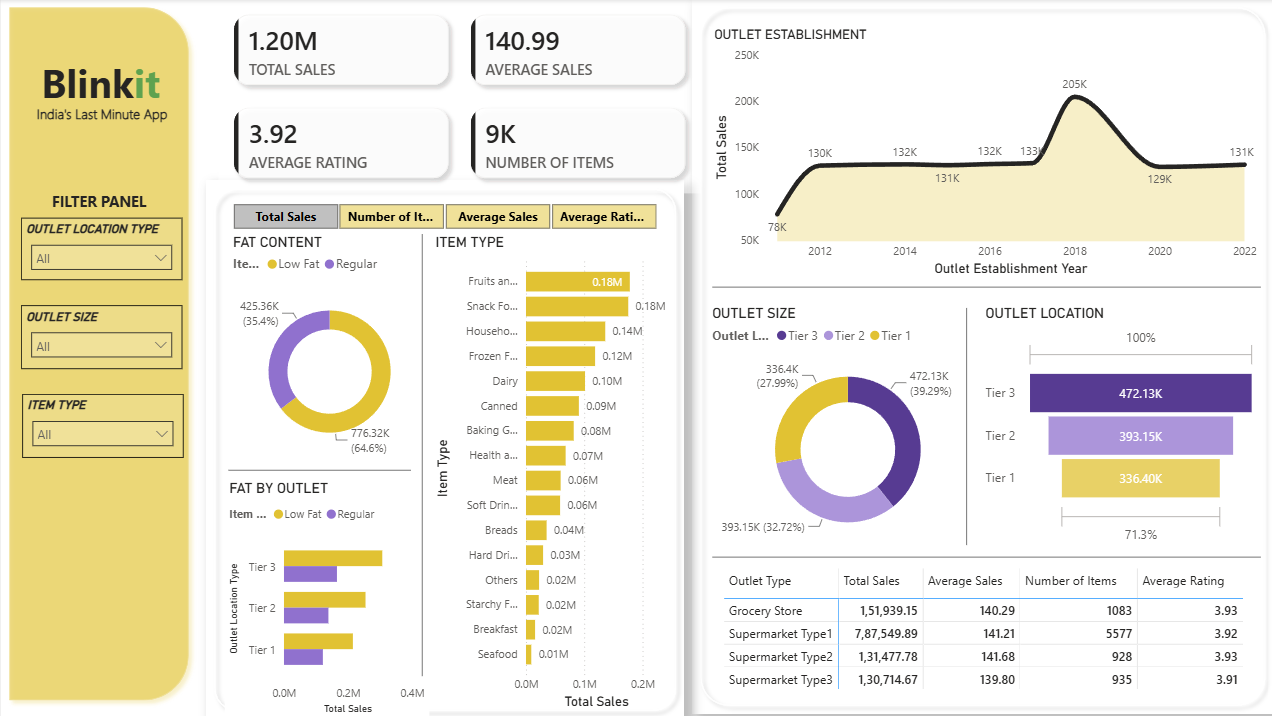

The page's visual inventory and layout, read from the dashboard file:
{"tool":"powerbi","page":{"name":"Page 1","canvas":[1400,800],"ordinal":0},"visuals":[{"type":"shape","box":[223,197.3,521.6,587.8],"z":0},{"type":"clusteredBarChart","title":"FAT BY OUTLET","fields":{"Y":["BlinkIT Grocery Data.Total Sales"],"Category":["BlinkIT Grocery Data.Outlet Location Type"],"Series":["BlinkIT Grocery Data.Item Fat Content"]},"box":[244,524.9,223.6,260.4],"z":1000},{"type":"shape","box":[0,0,213.7,774],"z":2000},{"type":"donutChart","title":"FAT CONTENT","fields":{"Y":["BlinkIT Grocery Data.Total Sales"],"Category":["BlinkIT Grocery Data.Item Fat Content"]},"box":[248.1,256.3,220.9,257.7],"z":3000},{"type":"textbox","box":[27.4,57.5,163,68.5],"z":4000},{"type":"textbox","box":[19.2,111,182.2,32.9],"z":5000},{"type":"cardVisual","fields":{"Data":["BlinkIT Grocery Data.Total Sales","BlinkIT Grocery Data.Average Sales","BlinkIT Grocery Data.Average Rating","BlinkIT Grocery Data.Number of Items"]},"box":[237,0,527.4,212.3],"z":6000},{"type":"clusteredBarChart","title":"ITEM TYPE","fields":{"Y":["BlinkIT Grocery Data.Total Sales"],"Category":["BlinkIT Grocery Data.Item Type"]},"box":[469,256.3,276.8,523.5],"z":7000},{"type":"shape","box":[753.9,0,634,779.8],"z":8000},{"type":"lineChart","title":"OUTLET ESTABLISHMENT","fields":{"Category":["BlinkIT Grocery Data.Outlet Establishment Year"],"Y":["BlinkIT Grocery Data.Total Sales"]},"box":[772.7,30.3,601.5,277.3],"z":9000},{"type":"donutChart","title":"OUTLET SIZE","fields":{"Y":["BlinkIT Grocery Data.Total Sales"],"Category":["BlinkIT Grocery Data.Outlet Location Type"]},"box":[775.7,334,295.8,267.2],"z":10000},{"type":"funnel","title":"OUTLET LOCATION","fields":{"Y":["Sum(BlinkIT Grocery Data.Sales)"],"Category":["BlinkIT Grocery Data.Outlet Location Type"]},"box":[1068.9,334,305.4,267.2],"z":11000},{"type":"pivotTable","fields":{"Rows":["BlinkIT Grocery Data.Outlet Type"],"Values":["BlinkIT Grocery Data.Total Sales","BlinkIT Grocery Data.Average Sales","BlinkIT Grocery Data.Number of Items","BlinkIT Grocery Data.Average Rating"]},"box":[783.9,616.2,576.7,144.5],"z":12000},{"type":"slicer","fields":{"Values":["Matrics.Matrics"]},"box":[227.4,216.4,511,39.7],"z":13000},{"type":"slicer","title":"OUTLET LOCATION TYPE","fields":{"Values":["BlinkIT Grocery Data.Outlet Location Type"]},"box":[21.8,238.6,175.9,68.2],"z":15000},{"type":"slicer","title":"OUTLET SIZE","fields":{"Values":["BlinkIT Grocery Data.Outlet Size"]},"box":[21.8,334,175.9,69.5],"z":15001},{"type":"slicer","title":"ITEM TYPE","fields":{"Values":["BlinkIT Grocery Data.Item Type"]},"box":[23.2,430.8,175.9,69.5],"z":15002},{"type":"shape","box":[447.2,256.3,24.5,482.6],"z":15005},{"type":"shape","box":[248.1,507.2,199,13.6],"z":15006},{"type":"shape","box":[775.7,306.8,598.5,15],"z":15007},{"type":"shape","box":[775.7,601.2,598.5,15],"z":15008},{"type":"shape","box":[1047,336.7,12.3,259],"z":15009},{"type":"textbox","box":[45,204.5,124.1,34.1],"z":15010}]}

Visuals, with their boxes in screenshot pixels (x1, y1, x2, y2), scaled from the page's 1400x800 canvas onto the 1272x716 screenshot:
shape: 203, 177, 677, 703
"FAT BY OUTLET" clusteredBarChart: 222, 470, 425, 703
shape: 0, 0, 194, 693
"FAT CONTENT" donutChart: 225, 229, 426, 460
textbox: 25, 51, 173, 113
textbox: 17, 99, 183, 129
cardVisual - BlinkIT Grocery Data.Total Sales x BlinkIT Grocery Data.Average Sales: 215, 0, 695, 190
"ITEM TYPE" clusteredBarChart: 426, 229, 678, 698
shape: 685, 0, 1261, 698
"OUTLET ESTABLISHMENT" lineChart: 702, 27, 1249, 275
"OUTLET SIZE" donutChart: 705, 299, 974, 538
"OUTLET LOCATION" funnel: 971, 299, 1249, 538
pivotTable - BlinkIT Grocery Data.Outlet Type x BlinkIT Grocery Data.Total Sales: 712, 551, 1236, 681
slicer - Matrics.Matrics: 207, 194, 671, 229
"OUTLET LOCATION TYPE" slicer: 20, 214, 180, 275
"OUTLET SIZE" slicer: 20, 299, 180, 361
"ITEM TYPE" slicer: 21, 386, 181, 448
shape: 406, 229, 429, 661
shape: 225, 454, 406, 466
shape: 705, 275, 1249, 288
shape: 705, 538, 1249, 551
shape: 951, 301, 962, 533
textbox: 41, 183, 154, 214
